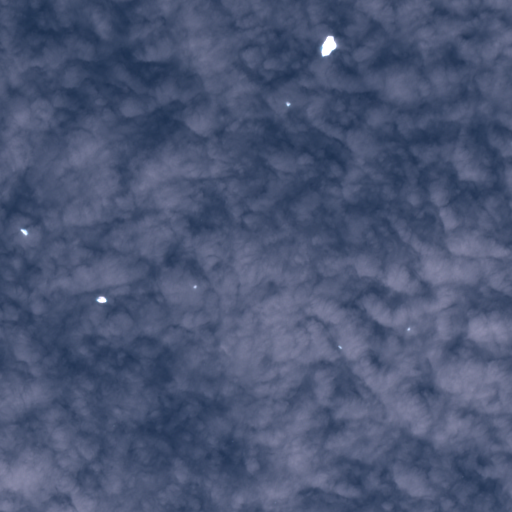Iceberg: (320, 35, 337, 56), (96, 295, 107, 303), (20, 228, 28, 235), (286, 101, 290, 106), (193, 285, 197, 288), (407, 327, 410, 330), (338, 345, 341, 348)
